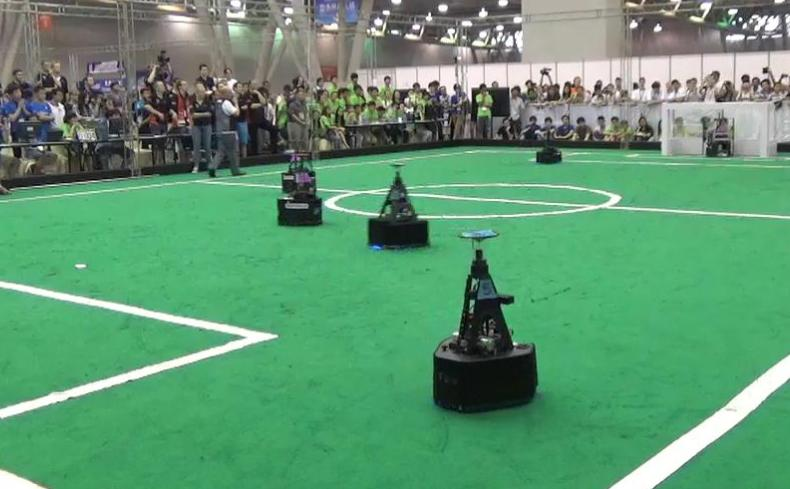robot: (424, 227, 544, 415), (359, 160, 432, 250), (274, 148, 325, 229)
